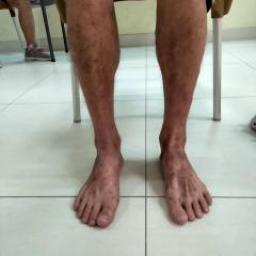Front View -Both Feet-: (56, 112, 227, 241)
